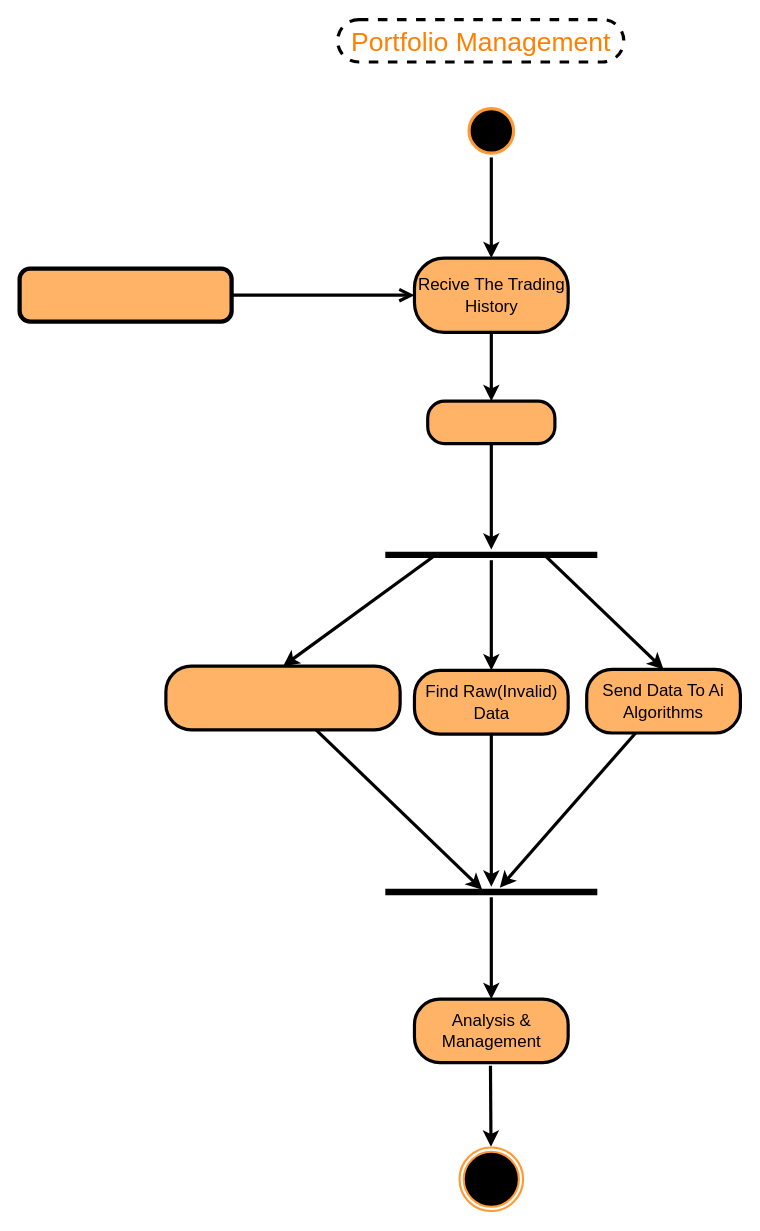
This 760x1231 diagram has some shape labels left out. Each missing label, with the centre of its shape:
"Brokert/Exchange System" belongs at point 125,295.
"Creat The Chart" belongs at point 491,422.
"Listing the Curenccy That Have Been Buy" belongs at point 282,697.
